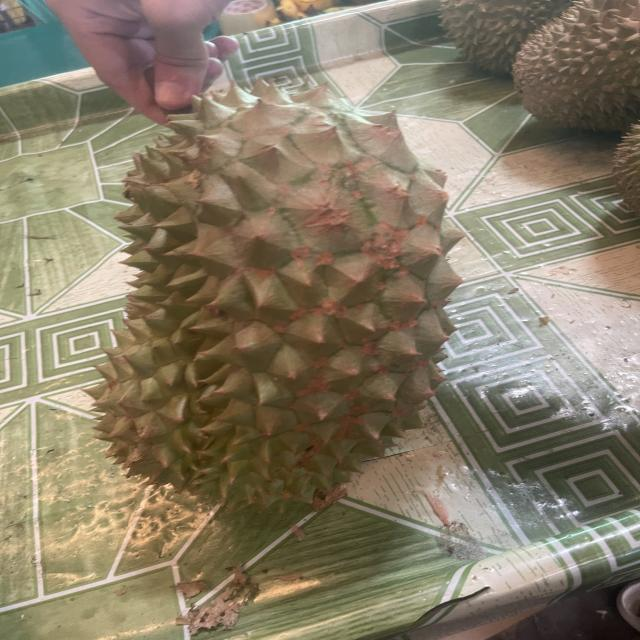mature: (98, 72, 466, 517)
